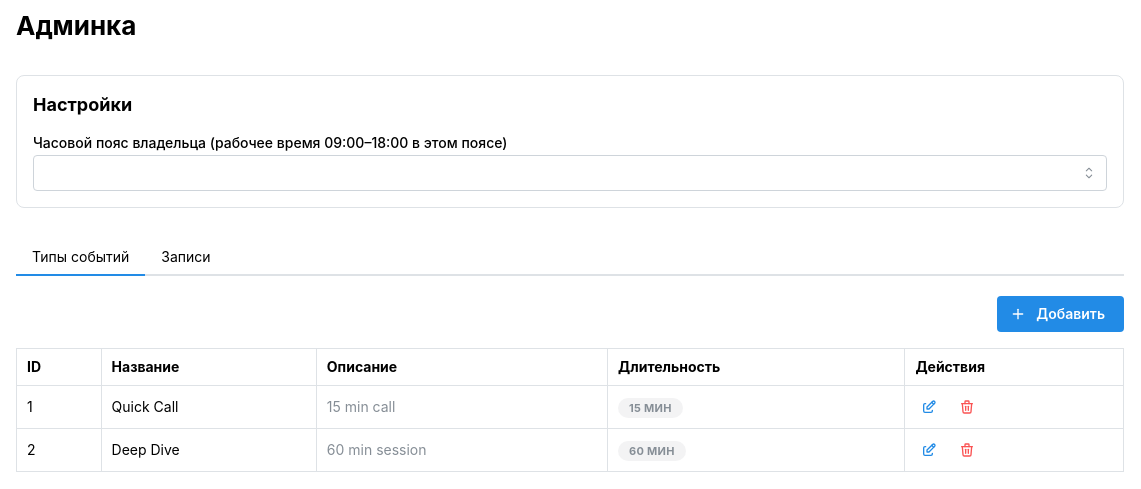
Test case: AdminPage › shows bookings in the bookings tab
Click the tab "Записи". click: (186, 258)
box: left=145, top=240, right=227, bottom=276
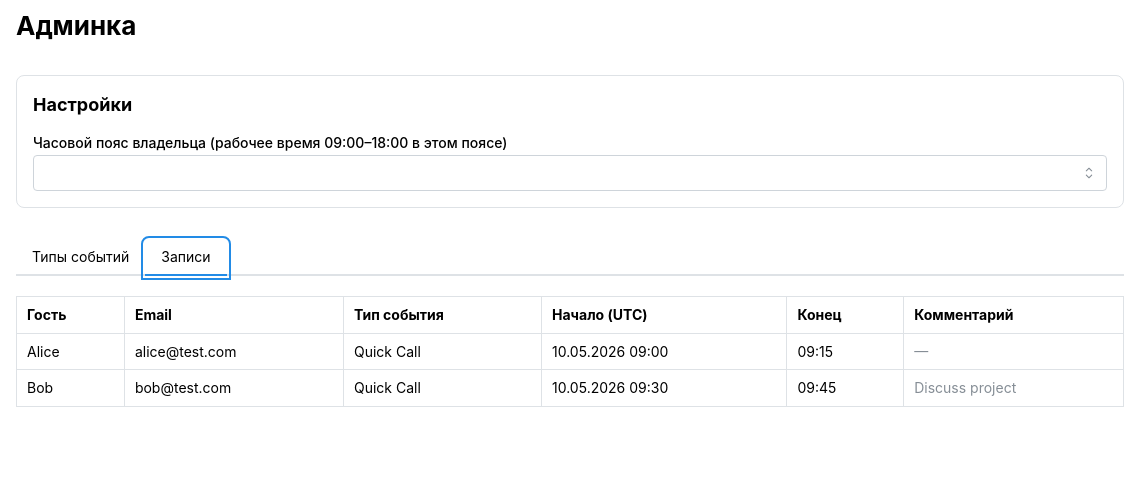
Result: the text "Alice" is shown at left=16, top=333, right=124, bottom=370
Result: the text "alice@test.com" is shown at left=124, top=333, right=343, bottom=370
Result: the text "Bob" is shown at left=16, top=370, right=124, bottom=407
